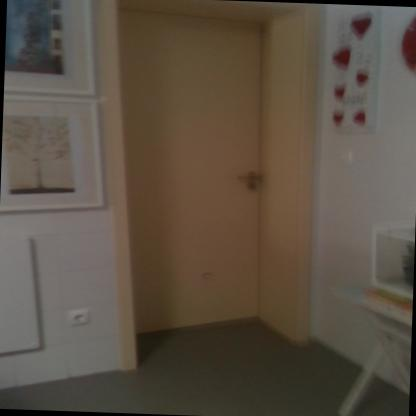closed: (76, 0, 339, 372)
